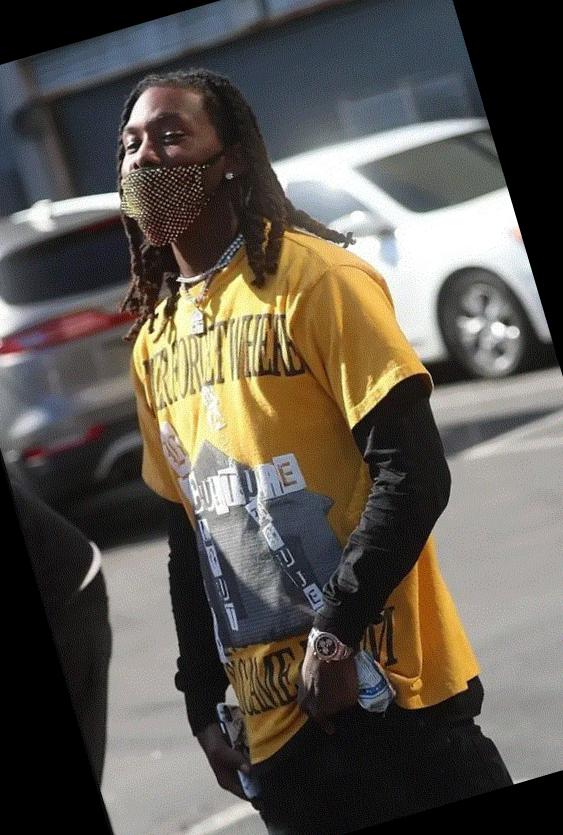mask_weared_incorrect: (95, 99, 224, 216)
